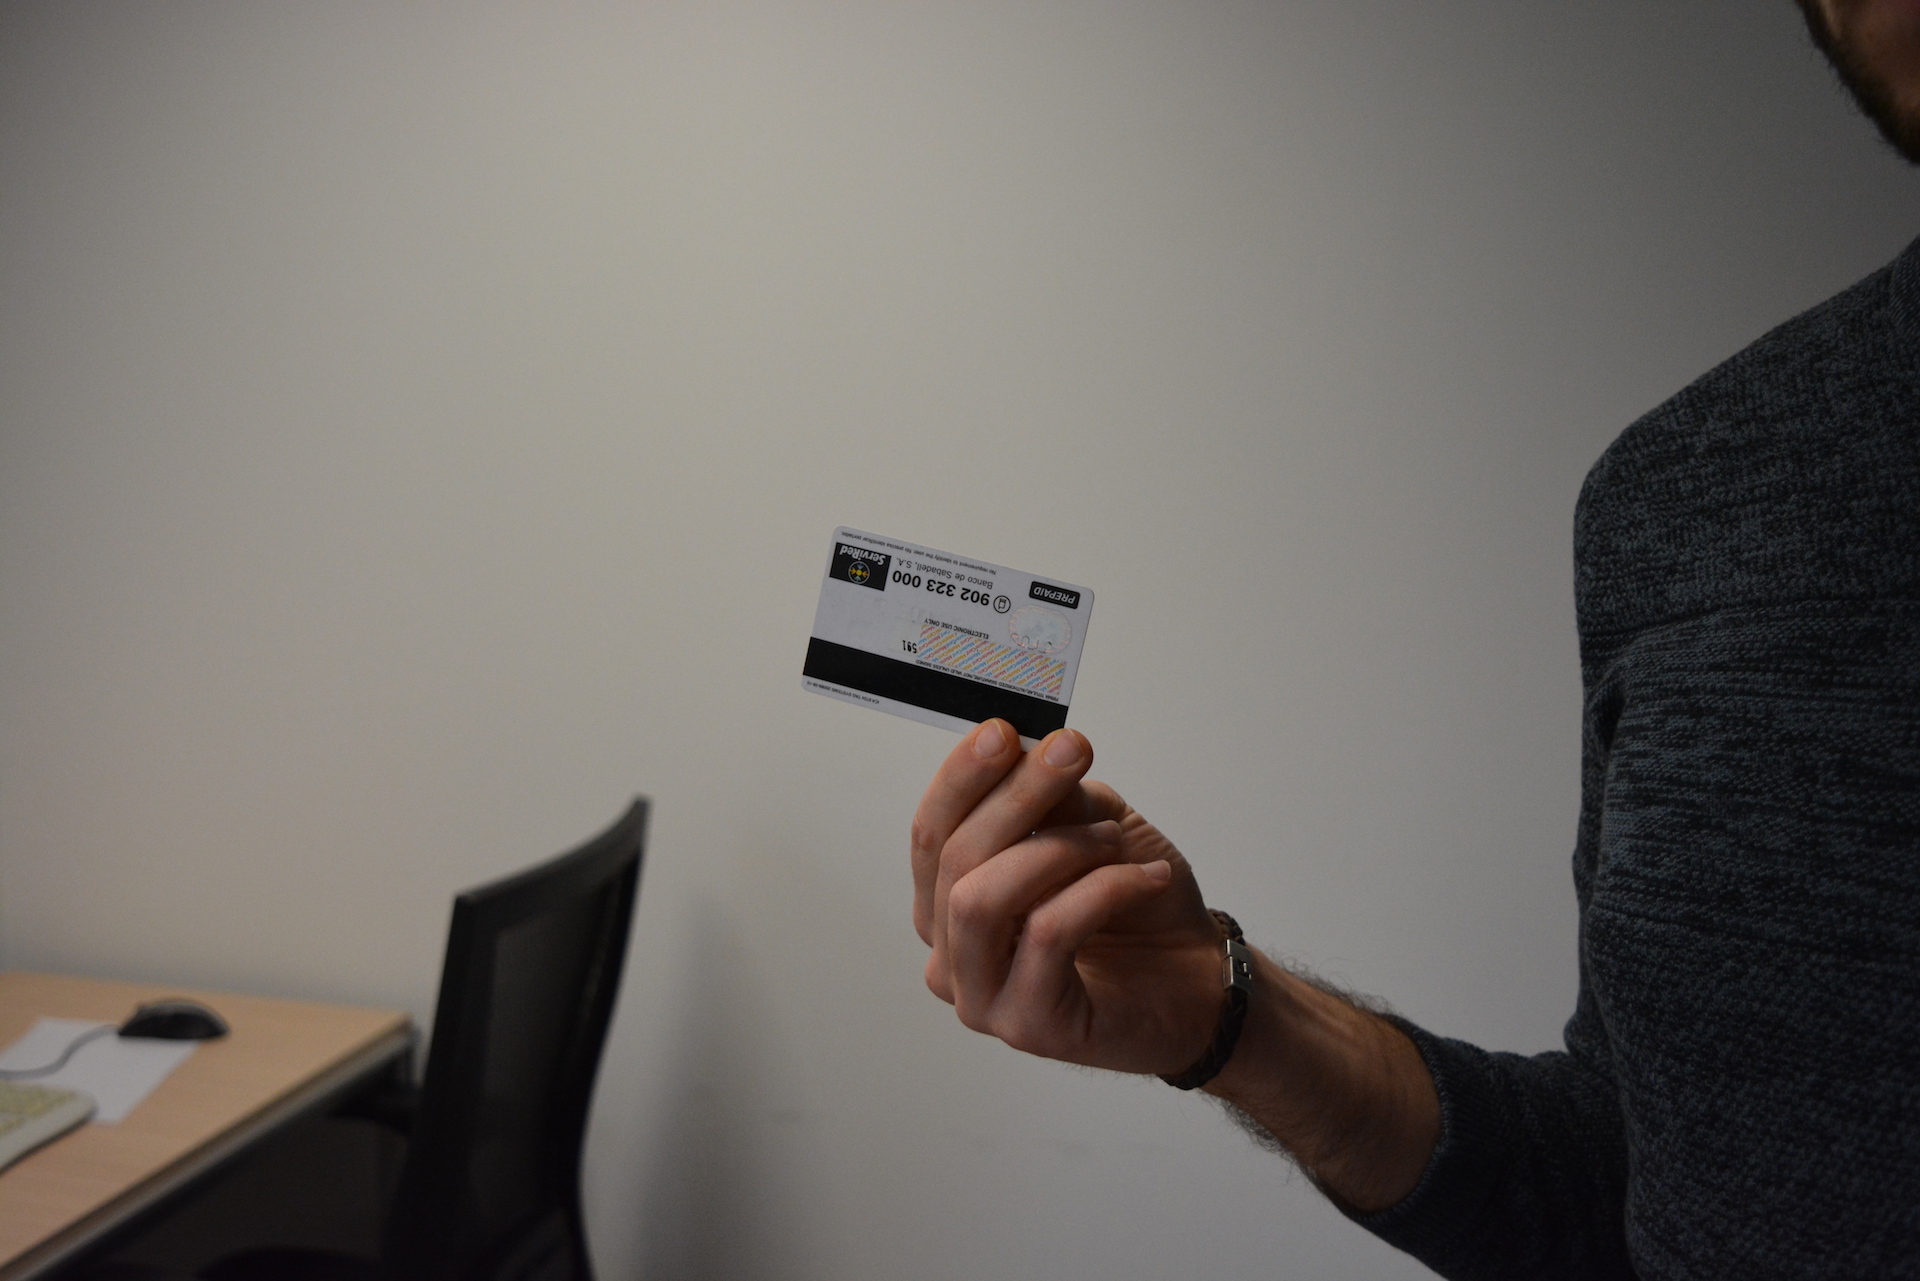tarjeta: (801, 525, 1097, 756)
